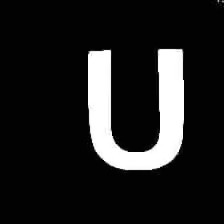LTR_U: (80, 36, 194, 177)
